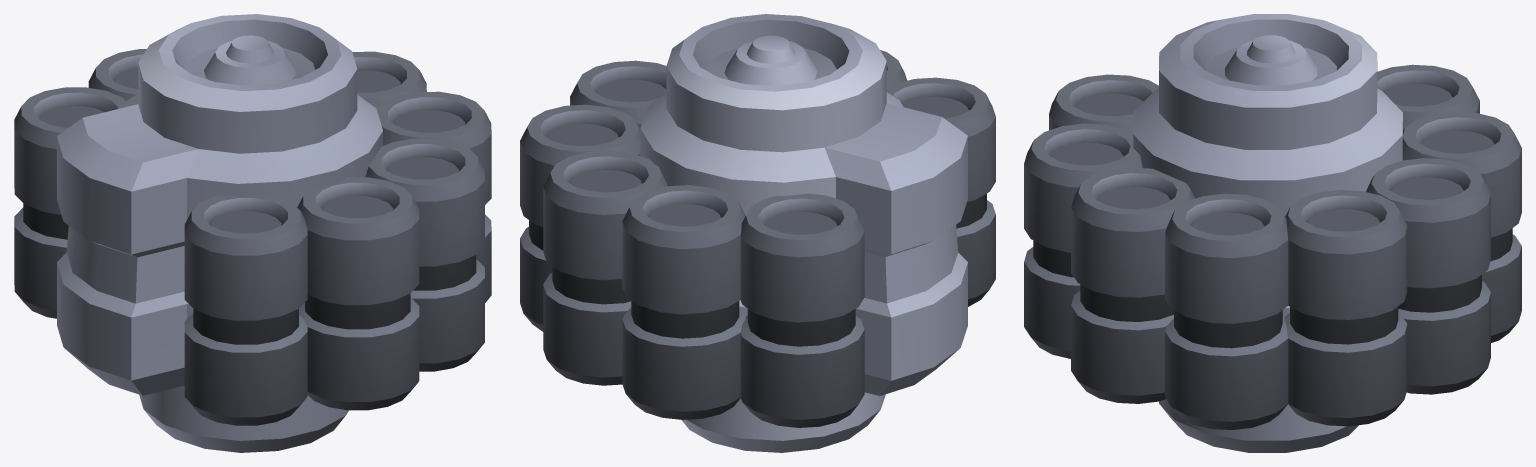
Rendered from SpacePart_Cylinder_015.fbx.
3 renders of one model, left to right at view 1: azimuth 30°, elevation 25°; view 2: azimuth 150°, elevation 25°; view 3: azimuth 270°, elevation 25°, orthographic.
Visible parts, largest first — view 1: Cylinder.015; view 2: Cylinder.015; view 3: Cylinder.015.
Boxes of the visible parts, x1,y1,x2,y2 form: Cylinder.015: (14,14,491,452); Cylinder.015: (520,14,995,452); Cylinder.015: (1024,14,1521,452).
Size of the model in its own units: 8122 by 7355 by 8928.
